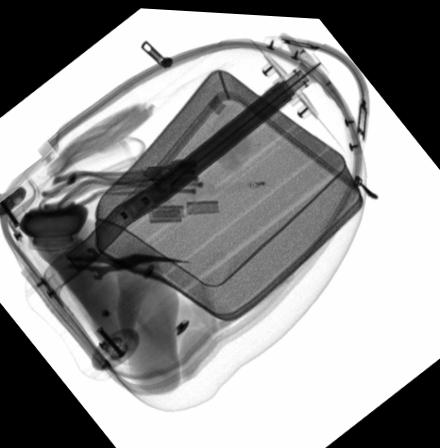Scissors: (38, 230, 191, 297)
